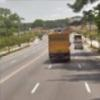buses: (47, 32, 72, 64)
